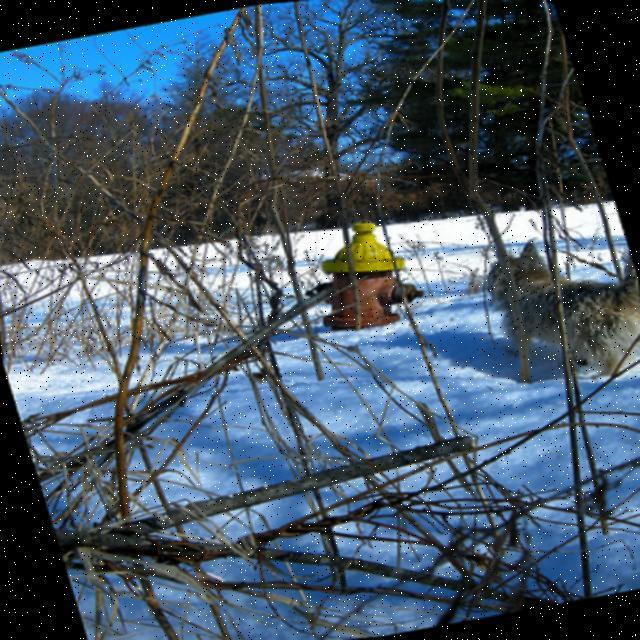fire_hydrant: (310, 214, 426, 332)
